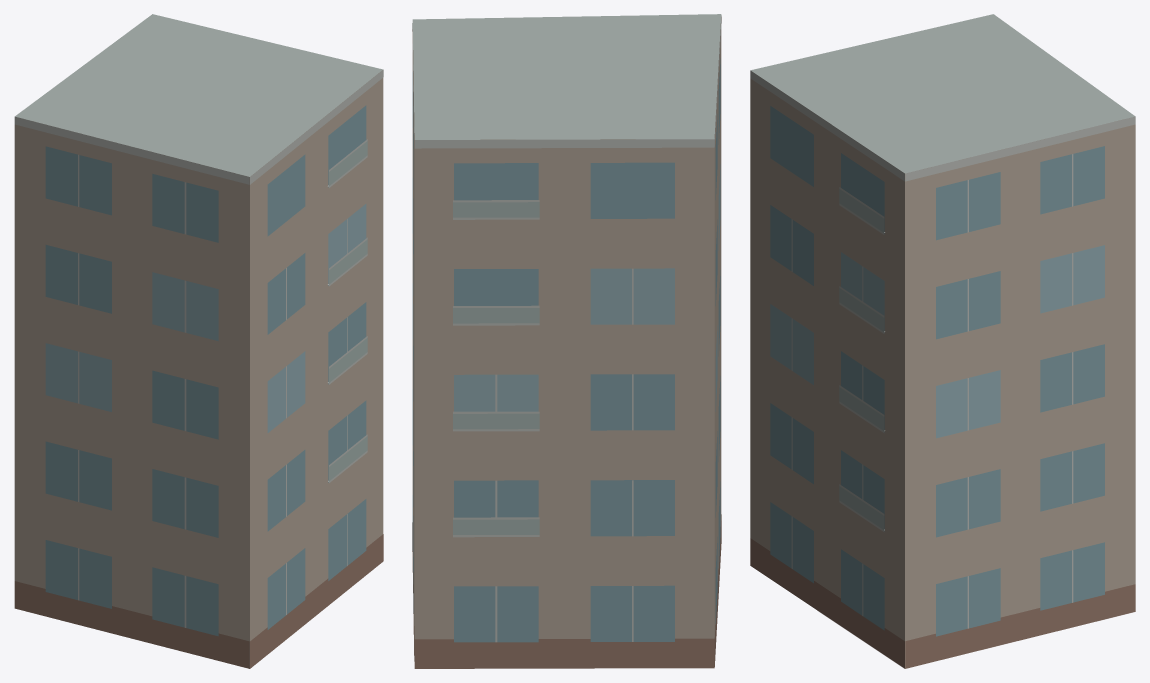
Rendered from survey-upis-32762774.glb.
3 views of the same model, side by side, from view 1: azimuth 30°, elevation 25°; view 2: azimuth 150°, elevation 25°; view 3: azimuth 270°, elevation 25° (orthographic). The views are drawn at different scales.
Parts seen in each view (by area): view 1: survey-upis-32762774.tmp; view 2: survey-upis-32762774.tmp; view 3: survey-upis-32762774.tmp.
Boxes of the visible parts, box(x1,y1,x2,y2) form: survey-upis-32762774.tmp: box(14, 14, 383, 668); survey-upis-32762774.tmp: box(412, 14, 721, 668); survey-upis-32762774.tmp: box(750, 14, 1135, 668).
Size of the model in its own units: 10.44 by 15.1 by 10.66.
